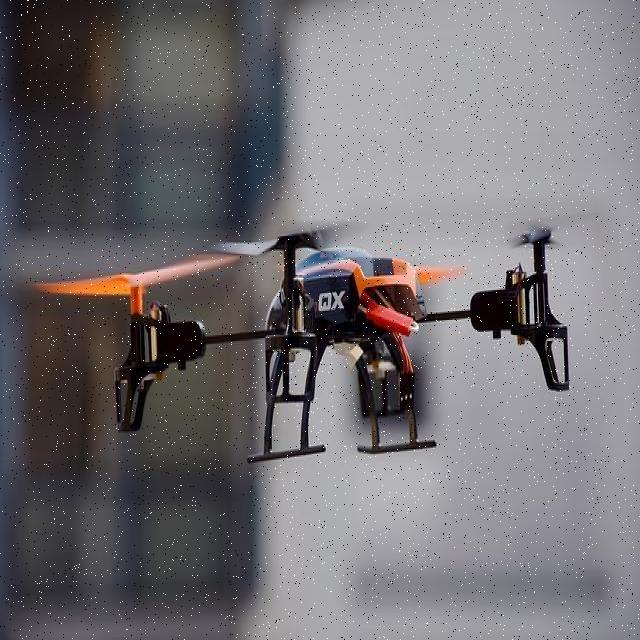UAV: (110, 221, 573, 470)
